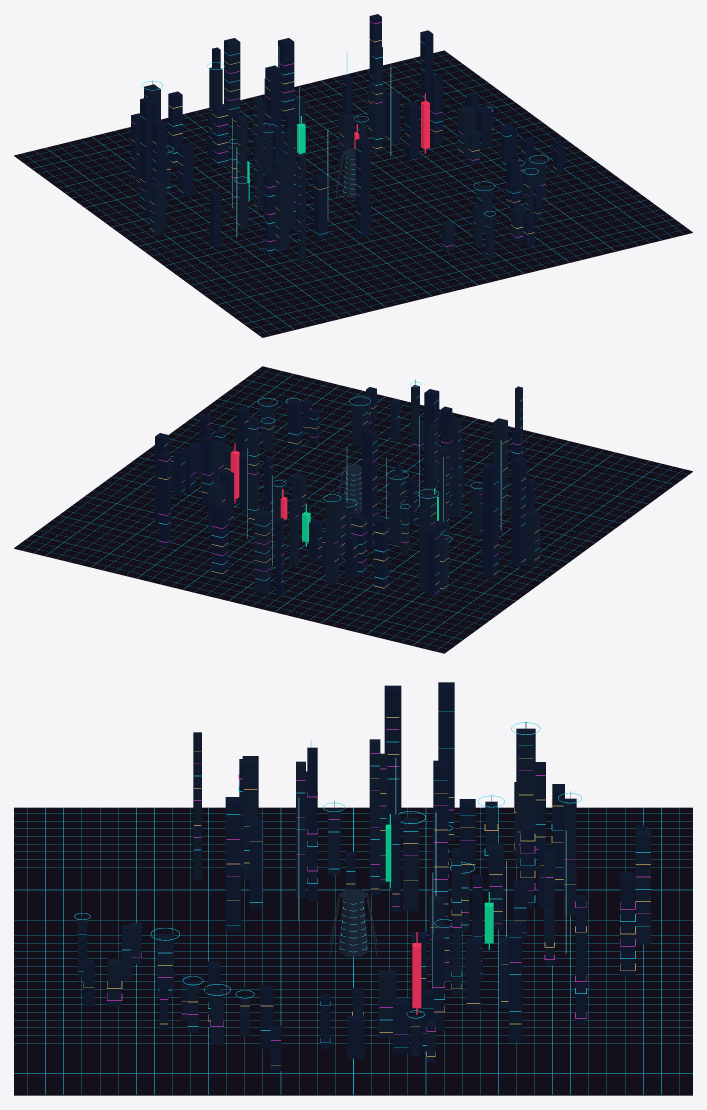
File: env_lplc.glb
The picture shows the model from 3 angles, top to bottom: view 1: azimuth 30°, elevation 25°; view 2: azimuth 150°, elevation 25°; view 3: azimuth 270°, elevation 25°; orthographic projection. The views are drawn at different scales.
Visible parts, largest first — view 1: env_ground, env_tower, env_tower2, env_gridline, env_band_c, env_beam, env_cr_metal, env_up; view 2: env_ground, env_tower, env_tower2, env_gridline, env_band_c, env_cr_metal, env_beam, env_up, env_band_y; view 3: env_ground, env_tower, env_tower2, env_gridline, env_band_c, env_cr_metal, env_band_y, env_beam, env_band_m, env_down, env_up.
Boxes of the visible parts, x1=… form: env_ground: x1=14, y1=50, x2=692, y2=337; env_tower: x1=131, y1=14, x2=563, y2=255; env_tower2: x1=137, y1=38, x2=545, y2=263; env_gridline: x1=21, y1=52, x2=687, y2=334; env_band_c: x1=131, y1=41, x2=548, y2=254; env_beam: x1=232, y1=46, x2=391, y2=237; env_cr_metal: x1=342, y1=148, x2=355, y2=197; env_up: x1=354, y1=93, x2=429, y2=153; env_ground: x1=14, y1=366, x2=692, y2=653; env_tower: x1=155, y1=379, x2=534, y2=598; env_tower2: x1=170, y1=385, x2=539, y2=594; env_gridline: x1=20, y1=368, x2=686, y2=650; env_band_c: x1=158, y1=381, x2=539, y2=580; env_cr_metal: x1=342, y1=464, x2=361, y2=513; env_beam: x1=247, y1=416, x2=501, y2=565; env_up: x1=230, y1=443, x2=287, y2=520; env_band_y: x1=158, y1=399, x2=539, y2=588; env_ground: x1=14, y1=807, x2=692, y2=1095; env_tower: x1=82, y1=682, x2=645, y2=1071; env_tower2: x1=77, y1=728, x2=650, y2=1062; env_gridline: x1=14, y1=807, x2=692, y2=1094; env_band_c: x1=74, y1=711, x2=650, y2=1047; env_cr_metal: x1=338, y1=889, x2=368, y2=956; env_band_y: x1=83, y1=717, x2=650, y2=1065; env_beam: x1=298, y1=740, x2=566, y2=988; env_band_m: x1=107, y1=729, x2=650, y2=1040; env_down: x1=385, y1=814, x2=493, y2=949; env_up: x1=412, y1=932, x2=421, y2=1014.
Bounding box in the file's own units: 150 × 38.83 × 150.
Materials: 7 (7 with a texture image).
